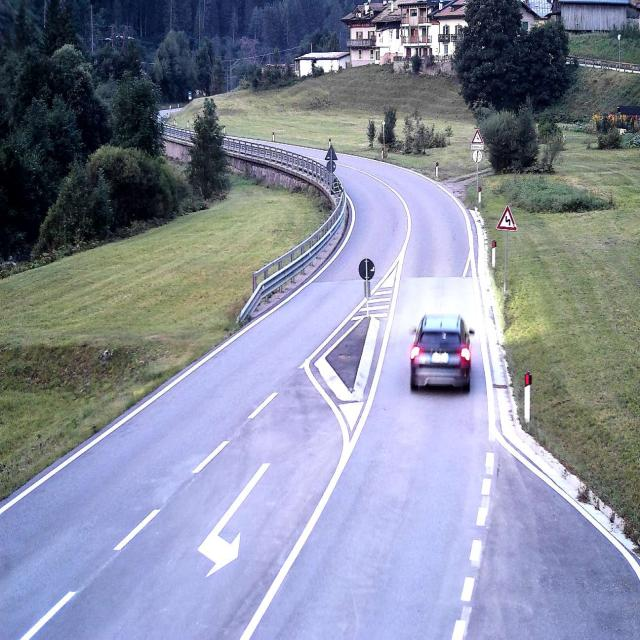car: (409, 312, 473, 391)
